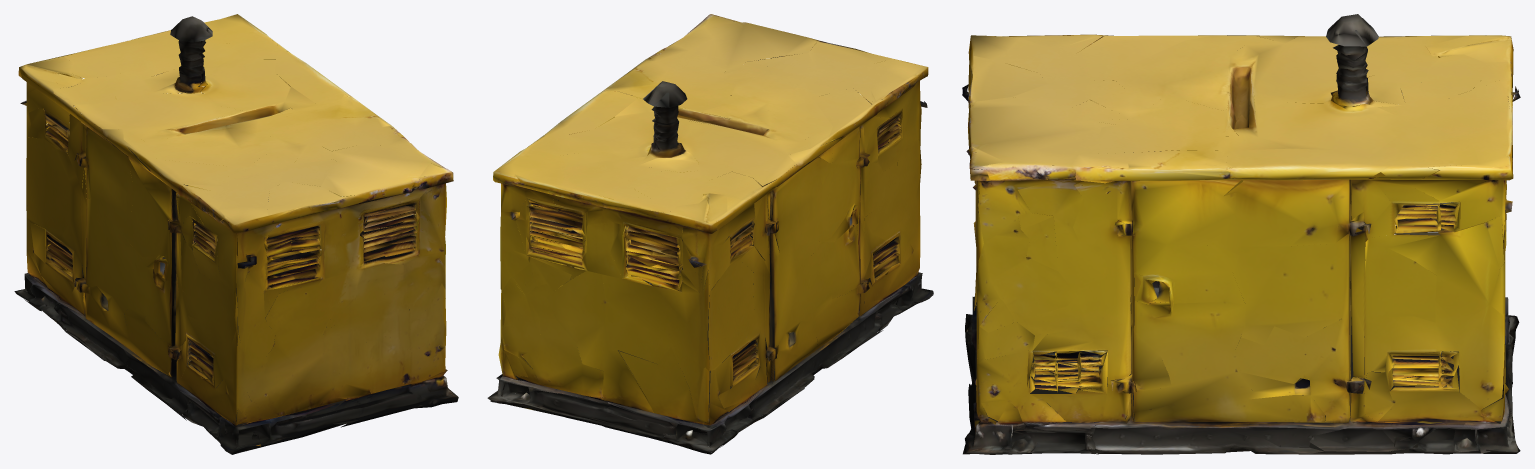
Rendered from generator_diesel_LOD1.fbx.
3 views of the same model, side by side, from view 1: azimuth 30°, elevation 25°; view 2: azimuth 150°, elevation 25°; view 3: azimuth 270°, elevation 25° (orthographic). The views are drawn at different scales.
Parts seen in each view (by area): view 1: generator_diesel.001; view 2: generator_diesel.001; view 3: generator_diesel.001.
Part boxes in pixels (bbox=[...]): generator_diesel.001: bbox=[14, 14, 458, 454]; generator_diesel.001: bbox=[487, 14, 933, 454]; generator_diesel.001: bbox=[962, 14, 1520, 454].
Size of the model in its own units: 2.37 by 2.93 by 4.01.
Materials: 1 (1 with a texture image).
